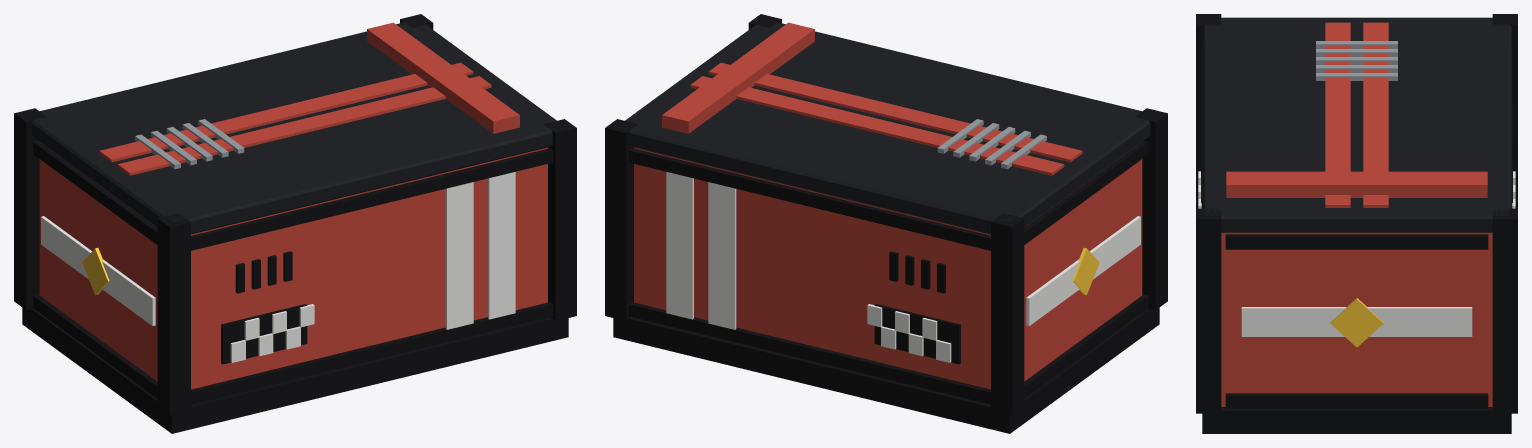
Rendered from sport_crate.glb.
3 views of the same model, side by side, from view 1: azimuth 30°, elevation 25°; view 2: azimuth 150°, elevation 25°; view 3: azimuth 270°, elevation 25° (orthographic). The views are drawn at different scales.
Parts seen in each view (by area): view 1: LidBoard, Panel.001, Pallet, Panel.003, Post, Edge.003, Edge.002, Post.002, LidSpoiler, Post.001, LidStripe.001, LidStripe (+7 smaller); view 2: LidBoard, Panel, Pallet, Panel.003, Post.001, Edge.001, Edge, Post.003, LidSpoiler, Post, LidStripe, LidStripe.001 (+7 smaller); view 3: LidBoard, Panel.002, Pallet, LidSpoiler, Stripe.004, Post.002, Post.003, Edge.004, Edge.005, LidStripe, LidStripe.001, Bolt (+11 smaller).
Part boxes in pixels (box(x1,y1,x2,y2)): LidBoard: box(31, 19, 556, 234); Panel.001: box(191, 147, 547, 389); Pallet: box(22, 307, 568, 433); Panel.003: box(41, 143, 157, 381); Post: box(157, 213, 190, 415); Edge.003: box(191, 148, 552, 250); Edge.002: box(191, 302, 552, 404); Post.002: box(544, 119, 576, 320); LidSpoiler: box(367, 22, 519, 133); Post.001: box(14, 108, 46, 310); LidStripe.001: box(99, 62, 473, 162); LidStripe: box(117, 76, 491, 175); LidBoard: box(625, 20, 1150, 234); Panel: box(634, 147, 990, 389); Pallet: box(613, 307, 1159, 433); Panel.003: box(1024, 143, 1140, 381); Post.001: box(991, 213, 1024, 415); Edge.001: box(629, 148, 990, 250); Edge: box(629, 302, 990, 404); Post.003: box(605, 119, 637, 320); LidSpoiler: box(662, 22, 814, 133); Post: box(1135, 108, 1167, 310); LidStripe: box(708, 62, 1082, 162); LidStripe.001: box(690, 76, 1064, 175); LidBoard: box(1202, 17, 1511, 232); Panel.002: box(1225, 232, 1488, 393); Pallet: box(1202, 407, 1511, 433); LidSpoiler: box(1226, 171, 1487, 197); Stripe.004: box(1241, 307, 1472, 336); Post.002: box(1196, 208, 1221, 413); Post.003: box(1492, 208, 1517, 413); Edge.004: box(1225, 393, 1488, 408); Edge.005: box(1225, 234, 1488, 249); LidStripe: box(1325, 22, 1350, 207); LidStripe.001: box(1363, 22, 1388, 207); Bolt: box(1330, 298, 1383, 347).
Bounding box in the file's own units: 0.77 × 0.4025 × 0.51.
